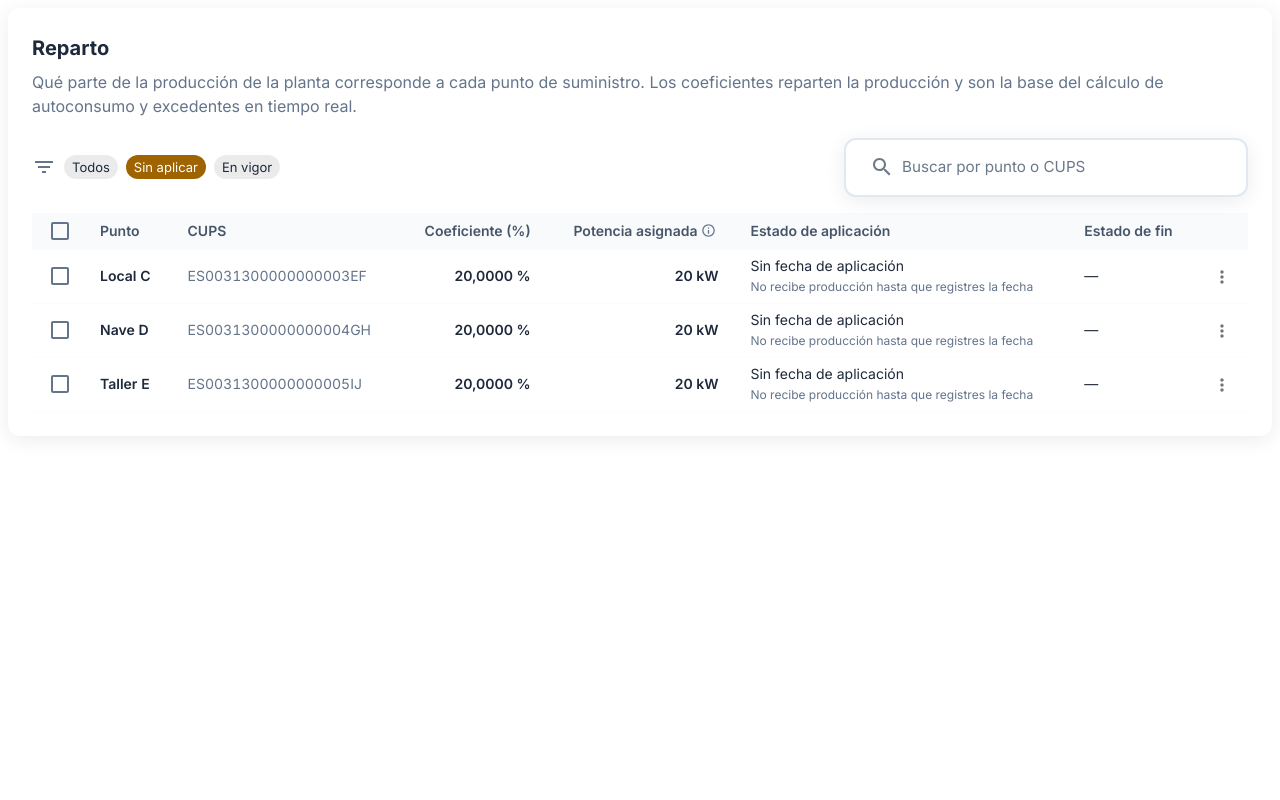
Scenario: SharingAgreementCoefficientSet (registering dates) › still lets the admin select the rows it surfaced, and only then offers the batch bar
The image size is (1280, 800).
Click the checkbox named "Seleccionar Local C". click: (60, 276)
box: [48,264,72,288]
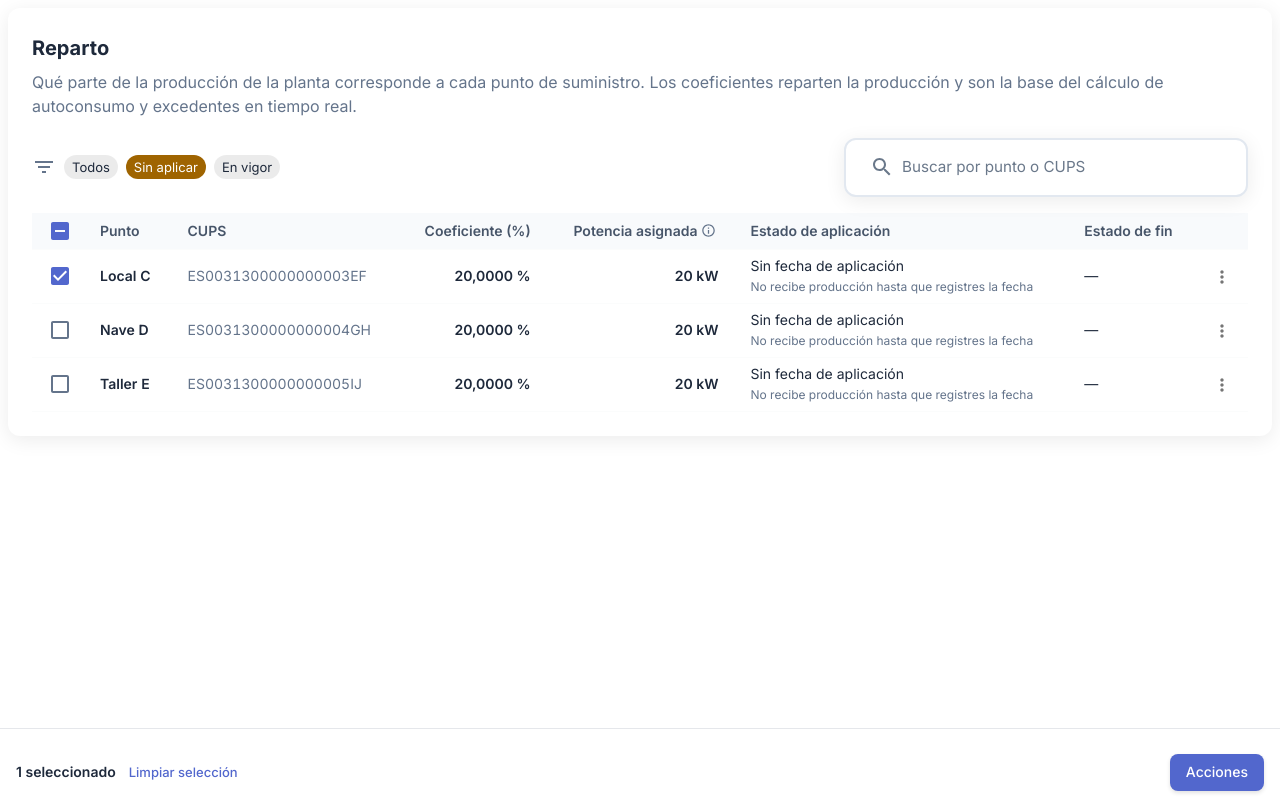
Click the checkbox named "Seleccionar Nave D". click: (60, 330)
box: [48,318,72,342]
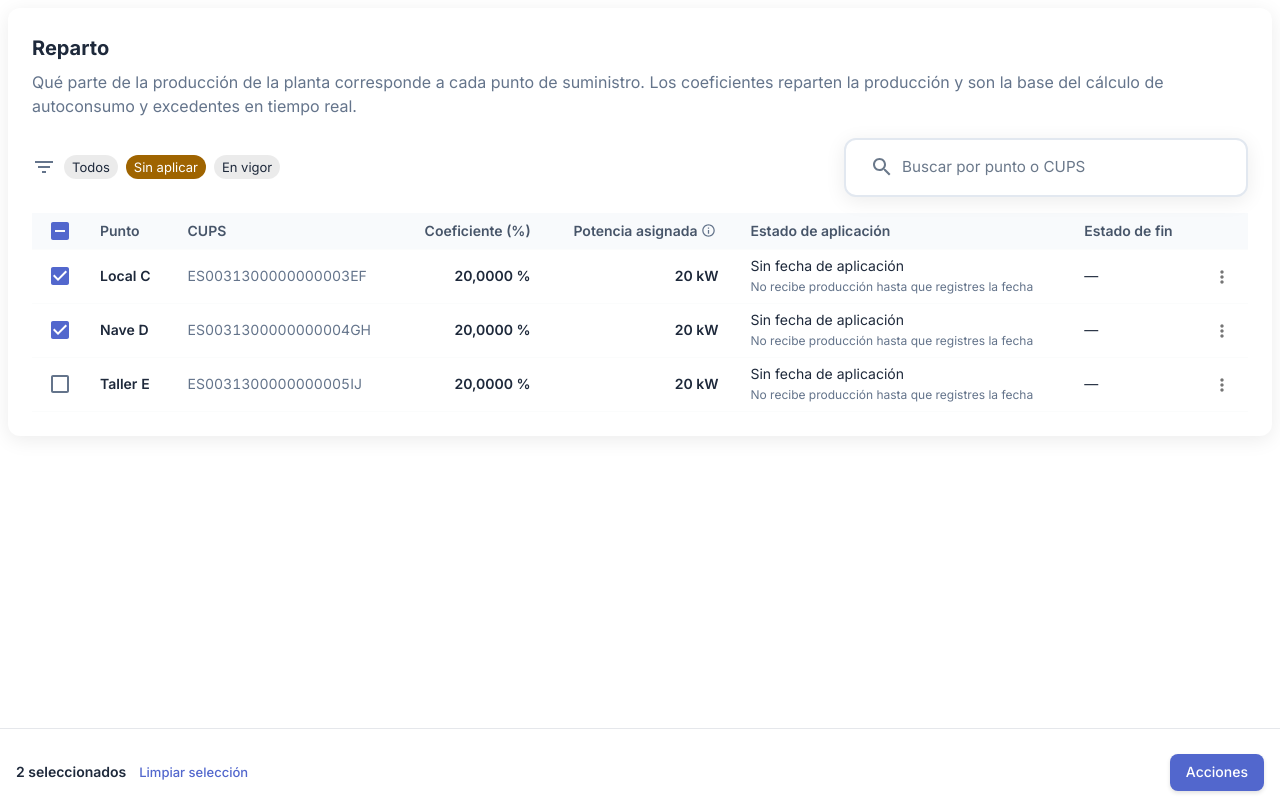
Result: the button "Acciones" is shown at [1170,754,1264,791]
Result: the text "2 seleccionados" is shown at [16,762,126,782]
